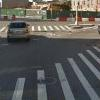Crosswalk: (12, 56, 100, 100)
